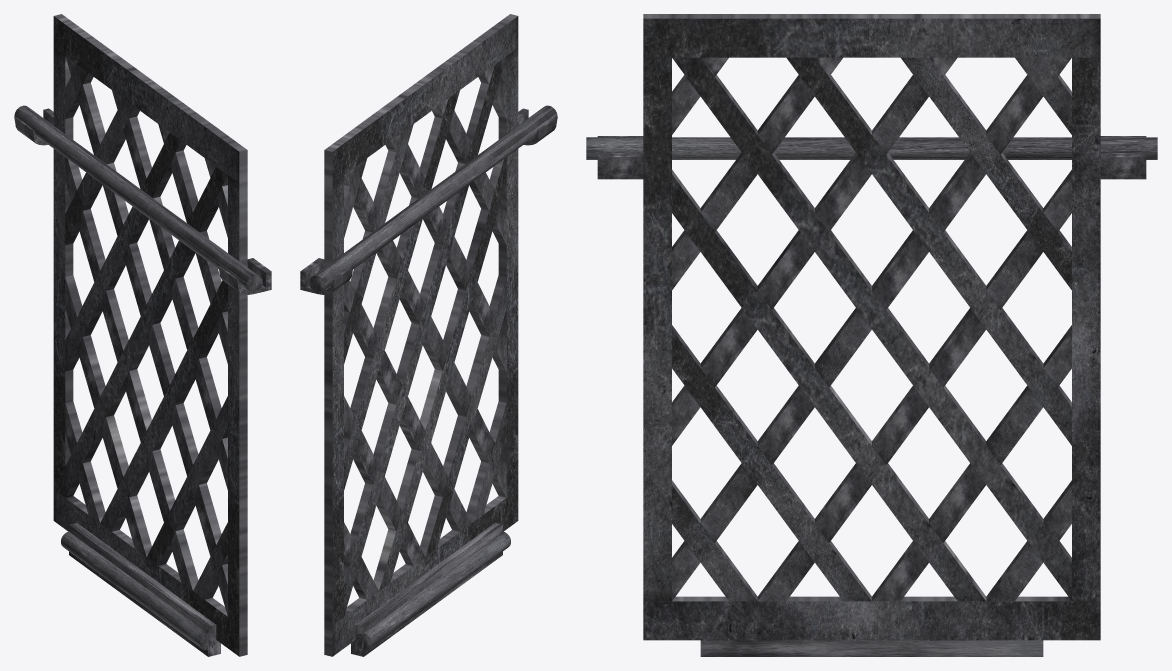
File: metal_grate.fbx
3 views of the same model, side by side, from view 1: azimuth 30°, elevation 25°; view 2: azimuth 150°, elevation 25°; view 3: azimuth 270°, elevation 25° (orthographic). The views are drawn at different scales.
Parts seen in each view (by area): view 1: Grate, Hinge.001, HingePlate, Hinge, BarRackRight, BarRackLeft; view 2: Grate, Hinge.001, Hinge, HingePlate, BarRackLeft, BarRackRight; view 3: Grate, Hinge.001, HingePlate, BarRackLeft, BarRackRight.
Part boxes in pixels (x1,y1,x2,y2): Grate: (53,14,247,656); Hinge.001: (14,105,262,292); HingePlate: (69,523,220,656); Hinge: (61,531,216,650); BarRackRight: (218,258,271,294); BarRackLeft: (14,108,53,145); Grate: (324,14,518,656); Hinge.001: (309,105,557,292); Hinge: (355,531,510,650); HingePlate: (351,523,502,656); BarRackLeft: (300,258,353,294); BarRackRight: (518,108,557,145); Grate: (643,14,1100,640); Hinge.001: (586,137,1157,159); HingePlate: (700,640,1043,656); BarRackLeft: (1100,136,1146,179); BarRackRight: (597,136,643,179).
Size of the model in its own units: 43.13 by 618 by 500.
Materials: 1 (1 with a texture image).
